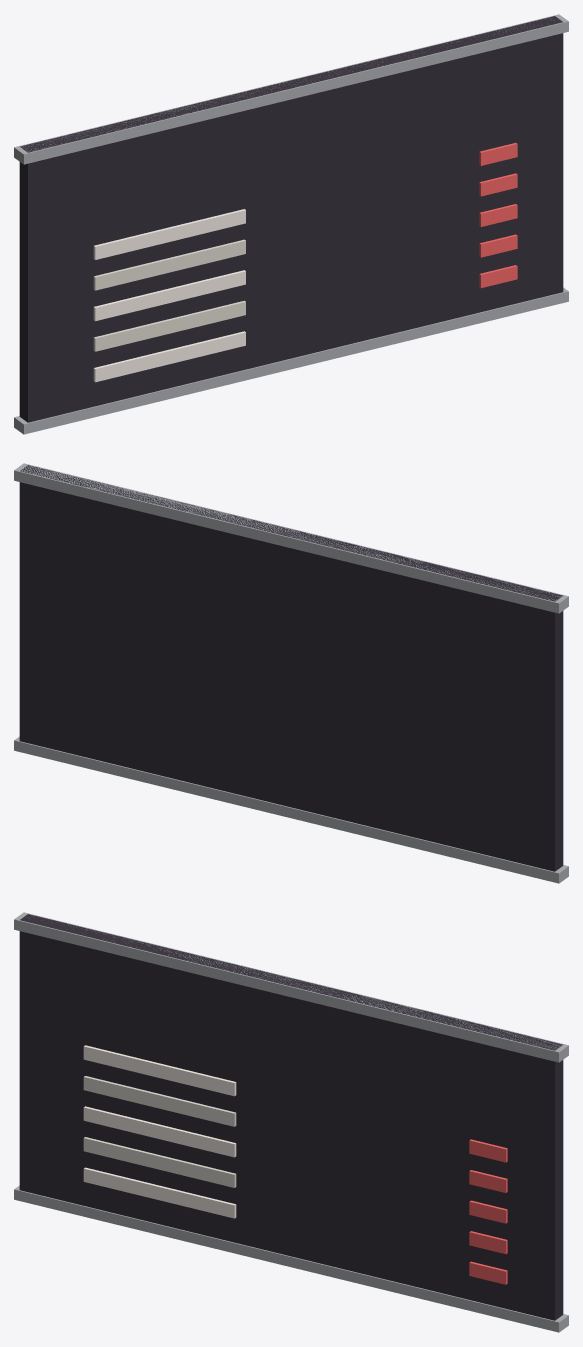
Rendered from menu_board.glb.
3 views of the same model, one above another, from view 1: azimuth 30°, elevation 25°; view 2: azimuth 150°, elevation 25°; view 3: azimuth 330°, elevation 25° (orthographic).
Visible parts, largest first — view 1: board, frame_top, frame_bottom, item_name_1, item_name_2, item_name_3, item_name_4, item_name_0, item_price_1, item_price_3, item_price_4, item_price_0 (+1 smaller); view 2: board, frame_top, frame_bottom; view 3: board, frame_top, frame_bottom, item_name_4, item_name_0, item_name_1, item_name_2, item_name_3, item_price_2, item_price_0, item_price_1, item_price_3 (+1 smaller).
Part boxes in pixels (box(x1,y1,x2,y2)): board: box(19, 16, 563, 422); frame_top: box(14, 14, 568, 164); frame_bottom: box(14, 287, 568, 434); item_name_1: box(93, 239, 245, 290); item_name_2: box(93, 270, 245, 321); item_name_3: box(93, 300, 245, 351); item_name_4: box(93, 331, 245, 382); item_name_0: box(93, 209, 245, 259); item_price_1: box(479, 173, 517, 196); item_price_3: box(479, 234, 517, 257); item_price_4: box(479, 265, 517, 288); item_price_0: box(479, 143, 517, 165); board: box(19, 465, 563, 871); frame_top: box(14, 463, 568, 613); frame_bottom: box(14, 736, 568, 883); board: box(19, 914, 563, 1320); frame_top: box(14, 912, 568, 1062); frame_bottom: box(14, 1185, 568, 1332); item_name_4: box(83, 1167, 236, 1218); item_name_0: box(83, 1045, 236, 1096); item_name_1: box(83, 1076, 236, 1126); item_name_2: box(83, 1106, 236, 1157); item_name_3: box(83, 1137, 236, 1187); item_price_2: box(469, 1200, 507, 1223); item_price_0: box(469, 1139, 507, 1162); item_price_1: box(469, 1170, 507, 1192); item_price_3: box(469, 1231, 507, 1254).
Bounding box in the file's own units: 2.24 × 1.1 × 0.076.
